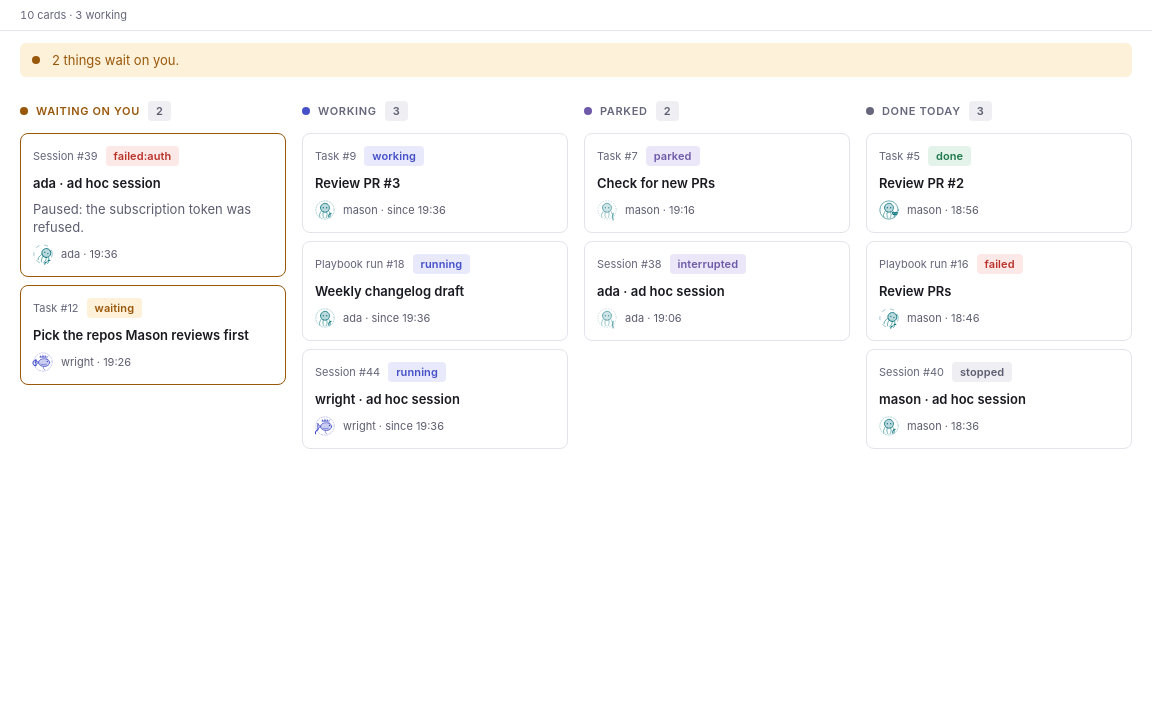
Test case: the open card › opens on click: its facts, its history (events) and its session's log through StreamingLog
The width and height of the screenshot is (1152, 720).
What coordinates should you click on to do the following:
click the button "Task #9 working Review PR #3 mason · since 19:36"
I would click on:
 (394, 156)
Its box is x1=302 y1=133 x2=568 y2=233.
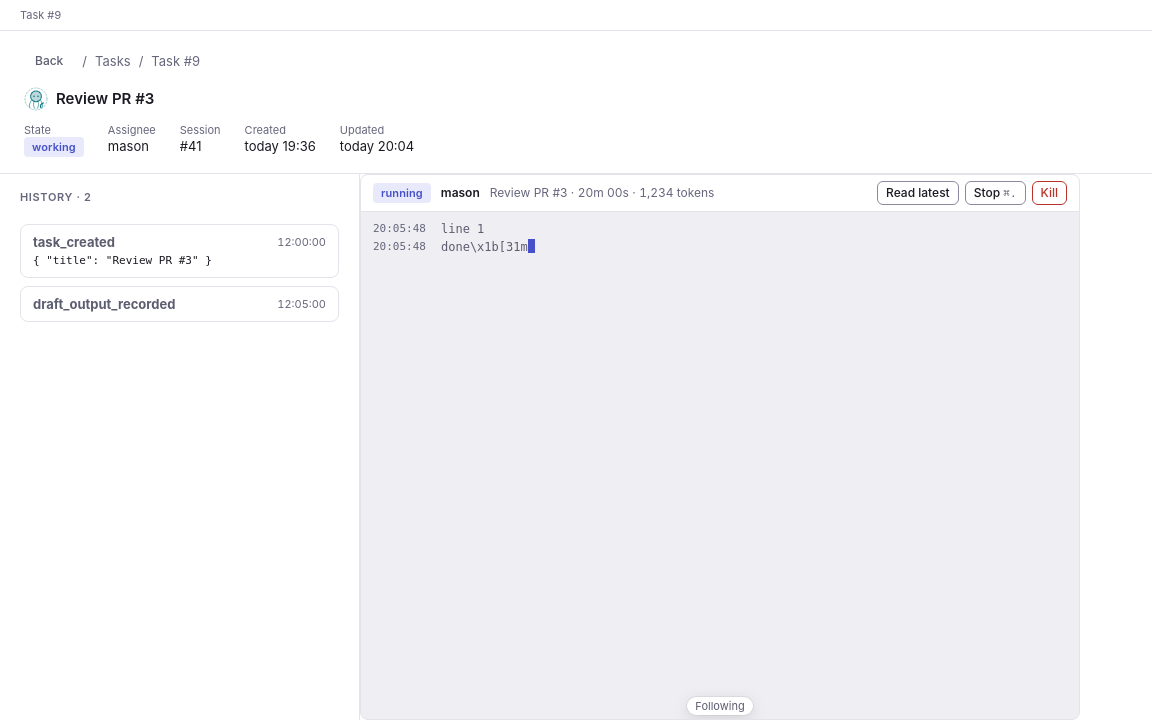
expect the element with test id "task-detail" is shown: met
expect the element with test id "task-history" shows "History · 2": met, box x1=0 y1=174 x2=360 y2=719
expect the element with test id "task-facts" shows "Assignee": met, box x1=108 y1=123 x2=156 y2=137
